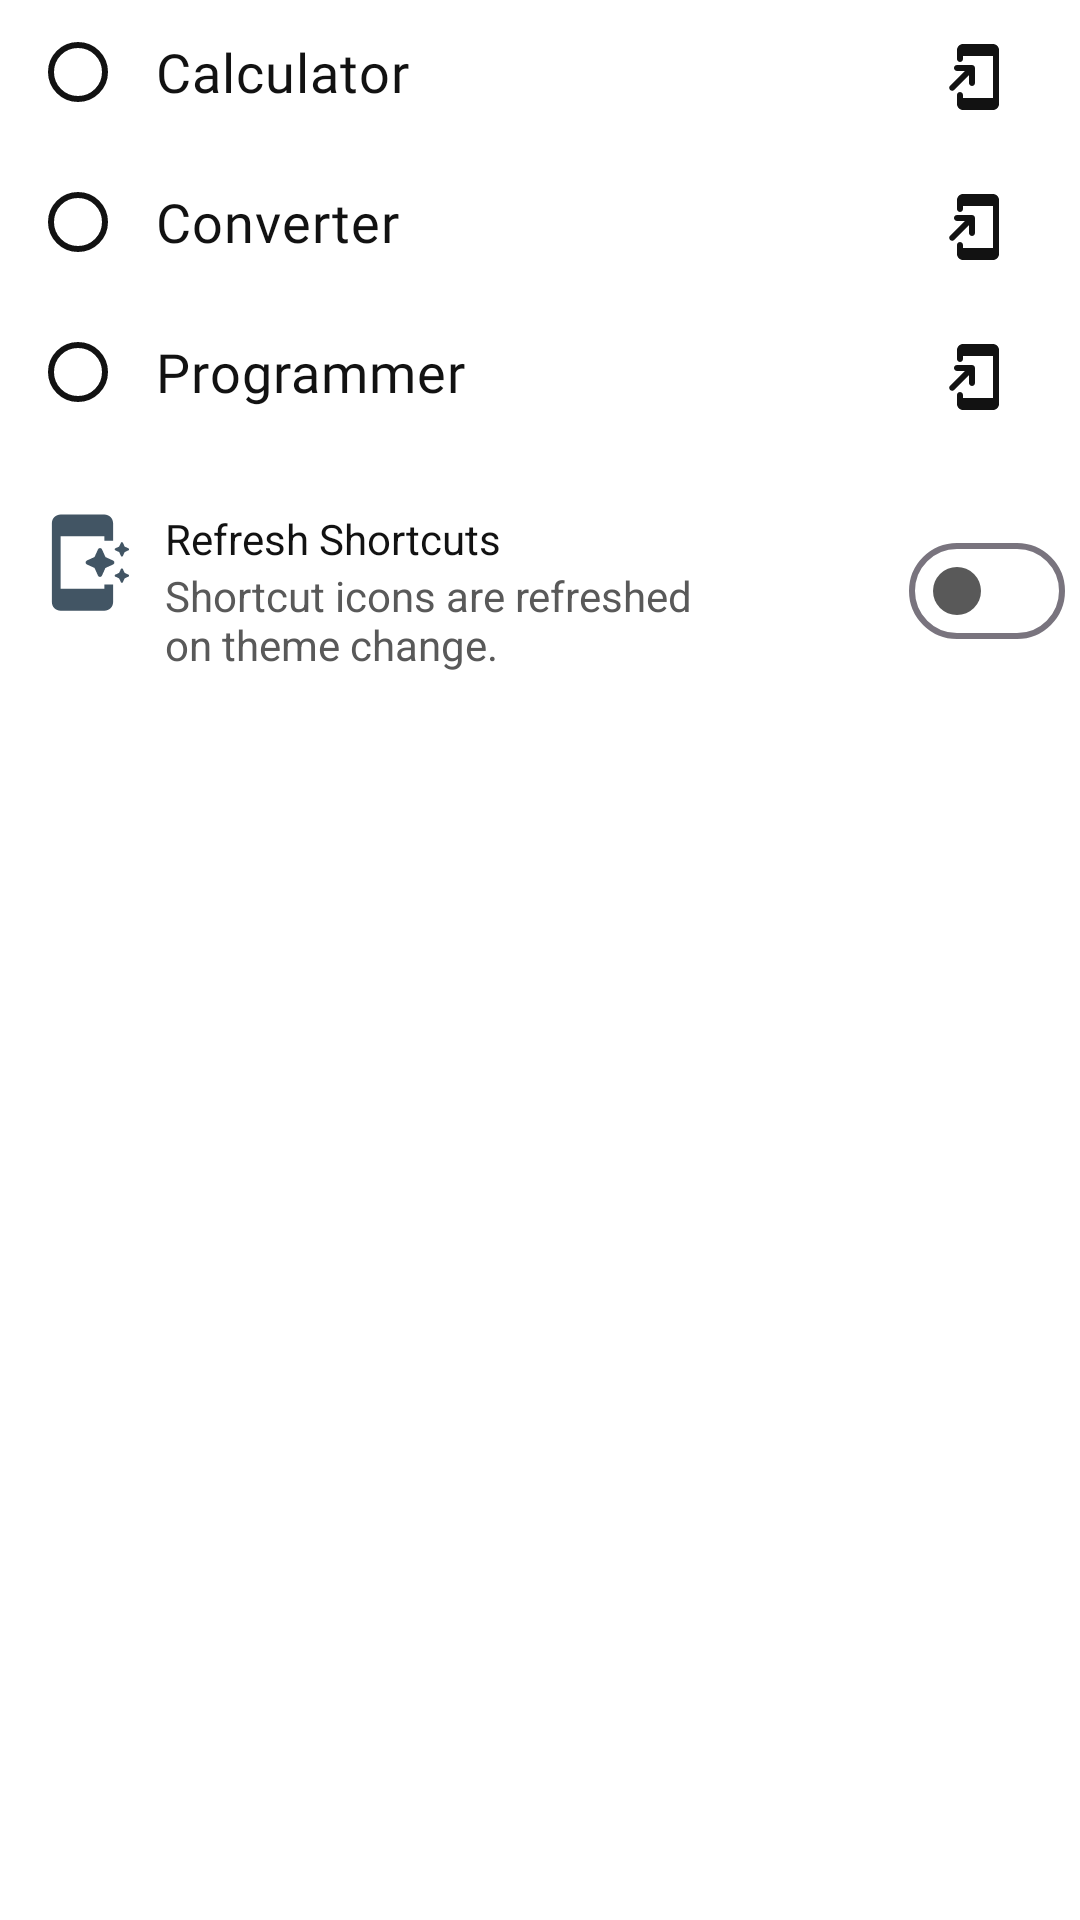

Icons on this 1080px×1920px Android screen, each with its box as (x1, y1, x2, y2):
add to home screen: (949, 44, 999, 110), (949, 194, 999, 260), (949, 344, 999, 410)
